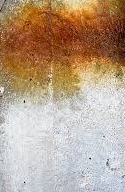Corrosion: (1, 1, 125, 104)
